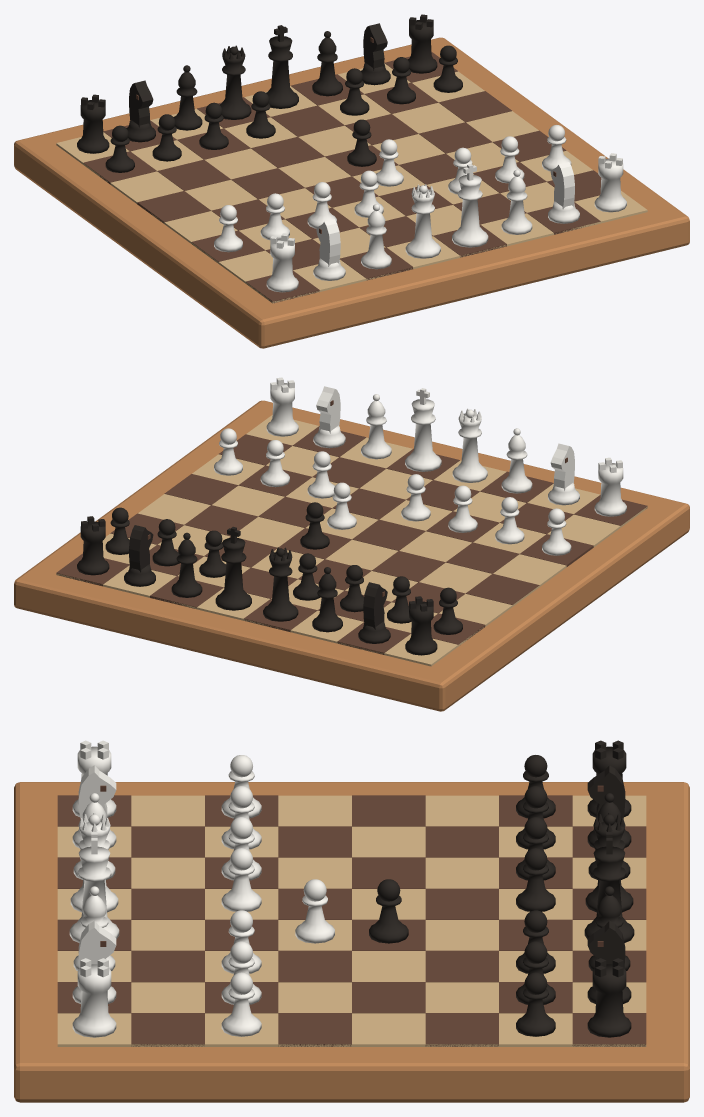
Rendered from hh_cat_chess_set.glb.
3 renders of one model, top to bottom at view 1: azimuth 30°, elevation 25°; view 2: azimuth 150°, elevation 25°; view 3: azimuth 270°, elevation 25°, orthographic. The views are drawn at different scales.
Visible parts, largest first — view 1: board, squares, piece.054, piece.057, piece.030, piece.040, square.002, square.006, square.019, square.030, square.014, square.026 (+52 smaller); view 2: board, squares, piece.054, piece.057, piece.030, piece.040, square.005, square.002, square.013, square.029, square.010, square.026 (+56 smaller); view 3: board, squares, square.030, square.029, square.028, square.020, square.021, square.022, square.002, square.004, square.005, square.006 (+52 smaller).
Part boxes in pixels (bbox=[...]): board: bbox=[14, 37, 689, 348]; squares: bbox=[56, 63, 647, 303]; piece.054: bbox=[452, 175, 488, 247]; piece.057: bbox=[266, 36, 298, 108]; piece.030: bbox=[405, 189, 440, 258]; piece.040: bbox=[219, 50, 251, 119]; square.002: bbox=[137, 191, 210, 223]; square.006: bbox=[157, 159, 230, 190]; square.019: bbox=[271, 105, 344, 136]; square.030: bbox=[438, 91, 511, 122]; square.014: bbox=[251, 136, 324, 167]; square.026: bbox=[419, 122, 492, 153]; board: bbox=[14, 400, 689, 711]; squares: bbox=[56, 415, 647, 666]; piece.054: bbox=[405, 399, 441, 471]; piece.057: bbox=[215, 538, 251, 610]; piece.030: bbox=[452, 413, 487, 482]; piece.040: bbox=[263, 552, 298, 621]; square.005: bbox=[446, 542, 519, 573]; square.002: bbox=[466, 573, 539, 604]; square.013: bbox=[352, 519, 425, 550]; square.029: bbox=[164, 474, 238, 504]; square.010: bbox=[372, 551, 445, 582]; square.026: bbox=[184, 505, 257, 536]; board: bbox=[14, 782, 689, 1102]; squares: bbox=[57, 795, 646, 1046]; square.030: bbox=[425, 1013, 498, 1046]; square.029: bbox=[278, 1013, 351, 1046]; square.028: bbox=[131, 1013, 204, 1046]; square.020: bbox=[131, 950, 204, 982]; square.021: bbox=[278, 950, 351, 982]; square.022: bbox=[425, 950, 498, 982]; square.002: bbox=[352, 795, 425, 826]; square.004: bbox=[131, 826, 204, 857]; square.005: bbox=[278, 826, 351, 857]; square.006: bbox=[425, 826, 498, 857].
Size of the model in its own units: 0.34 by 0.08 by 0.34.
